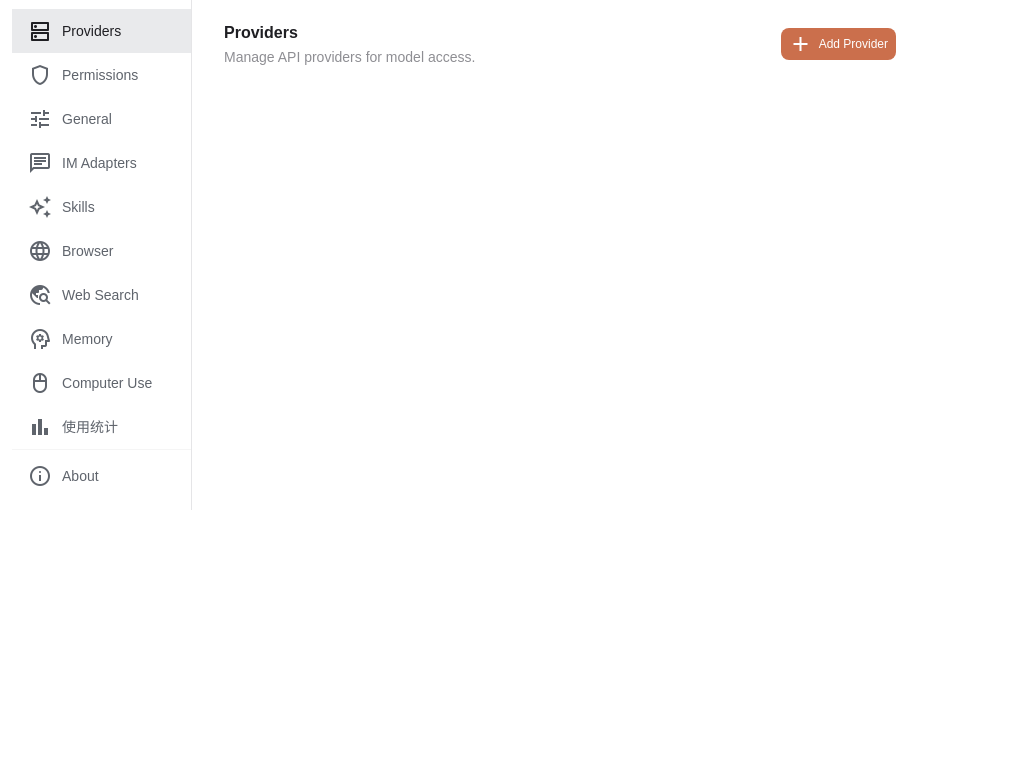
Test: Settings > Skills tab › renders markdown skills with document styling in detail view
What coordinates should you click on to do the following:
click the button "Skills"
I would click on:
 (102, 207)
Its box is [12,185,191,229].
(page scrolled)
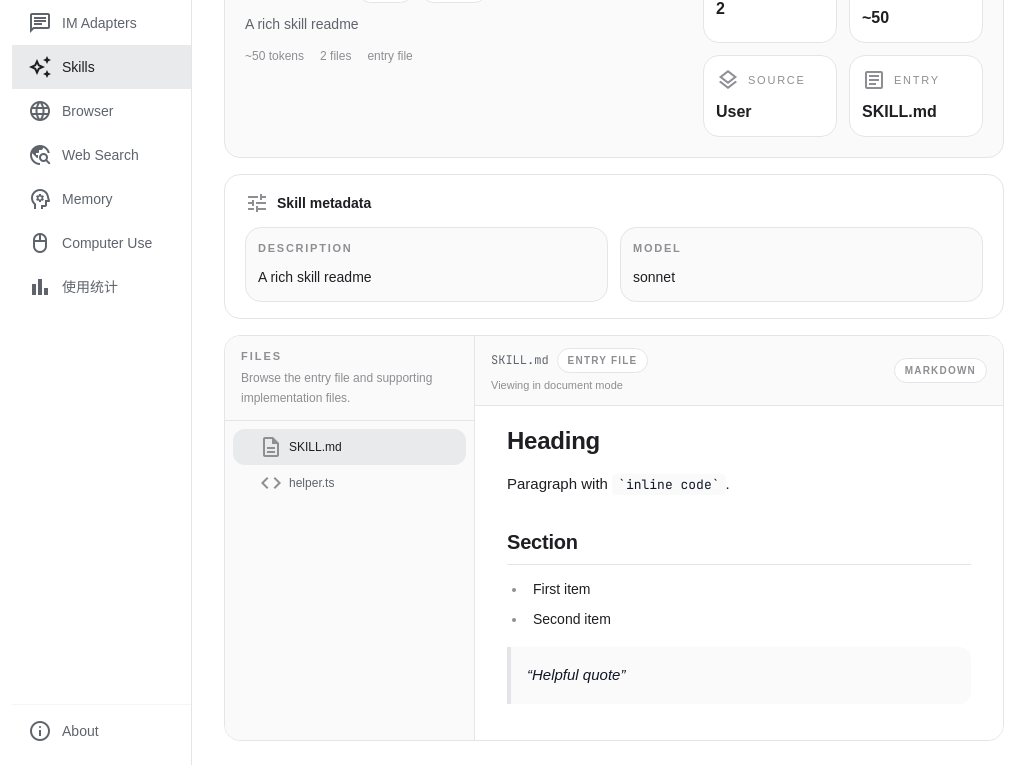
Check: the heading "Skill metadata" is shown, box [277,193,371,213]
Check: the heading "Heading" is shown, box [507,427,600,454]
Check: the text "Helpful quote" is shown, box [532,666,620,683]
